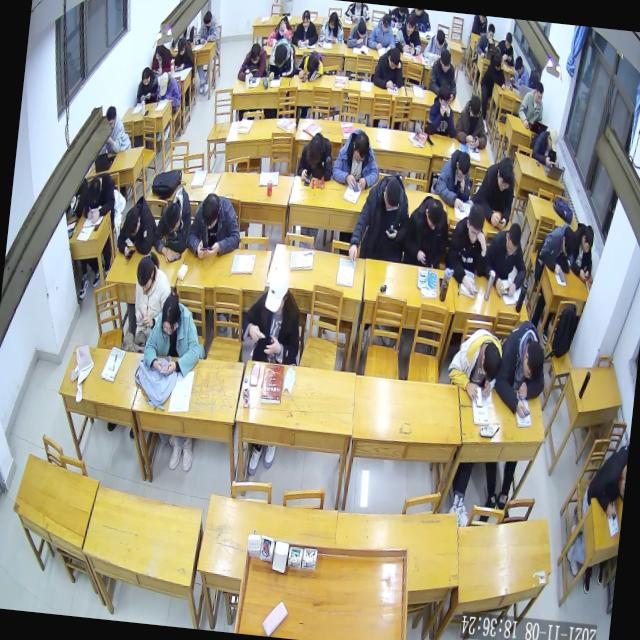bow: (491, 316, 552, 419), (444, 323, 506, 404), (150, 183, 195, 266), (114, 192, 159, 264), (532, 220, 578, 279), (295, 130, 336, 185), (80, 168, 116, 224), (264, 34, 298, 84), (237, 36, 270, 84), (293, 47, 326, 84), (480, 50, 510, 90), (422, 26, 451, 64), (266, 12, 294, 48), (345, 13, 370, 51)
down: (264, 262, 292, 318), (520, 337, 547, 384), (479, 340, 503, 386), (158, 294, 183, 338), (463, 203, 488, 246), (133, 254, 157, 295), (199, 190, 222, 230), (422, 196, 445, 234), (160, 200, 183, 238), (380, 177, 403, 214), (495, 155, 515, 193), (503, 220, 523, 258), (303, 134, 325, 168), (122, 205, 142, 240), (350, 131, 370, 165), (454, 150, 472, 183), (560, 227, 578, 260), (85, 172, 102, 204), (580, 223, 596, 256), (466, 94, 482, 124), (436, 83, 452, 112), (272, 41, 288, 68), (386, 45, 402, 71), (437, 48, 453, 74), (545, 126, 560, 153), (103, 104, 117, 130), (156, 70, 170, 96), (248, 40, 262, 64), (532, 80, 546, 104), (304, 52, 318, 75), (512, 54, 525, 77), (380, 12, 392, 35), (404, 12, 416, 35), (327, 8, 339, 30), (434, 28, 446, 50), (355, 20, 367, 40), (491, 52, 503, 72), (300, 8, 311, 29), (140, 66, 151, 86), (176, 36, 187, 56), (277, 16, 288, 36), (486, 22, 496, 43), (154, 42, 164, 62), (503, 30, 513, 50)
sit: (236, 258, 308, 364), (346, 166, 414, 268), (140, 284, 207, 380), (442, 200, 491, 298), (183, 188, 244, 264), (128, 248, 176, 344), (400, 191, 452, 273), (480, 220, 532, 300), (580, 438, 628, 524), (470, 152, 520, 232), (331, 124, 384, 194), (432, 144, 476, 212), (451, 92, 492, 152), (425, 81, 460, 141), (567, 220, 598, 284), (100, 106, 135, 160), (427, 44, 461, 98), (371, 42, 408, 90), (516, 78, 547, 132), (392, 10, 426, 58), (530, 125, 564, 170), (366, 10, 398, 56), (289, 8, 321, 52), (154, 70, 183, 112), (193, 8, 222, 48), (135, 65, 160, 108), (317, 10, 346, 45), (474, 21, 498, 61), (171, 35, 196, 73), (494, 30, 518, 68), (508, 54, 532, 92), (149, 40, 174, 76)
